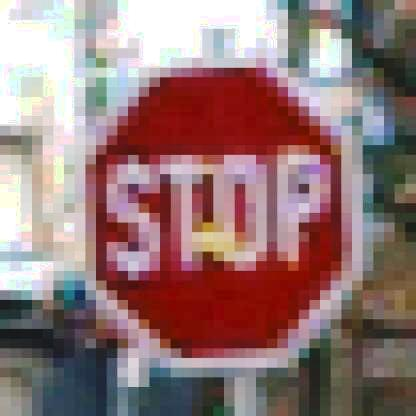Stop Sign: (72, 57, 365, 373)
